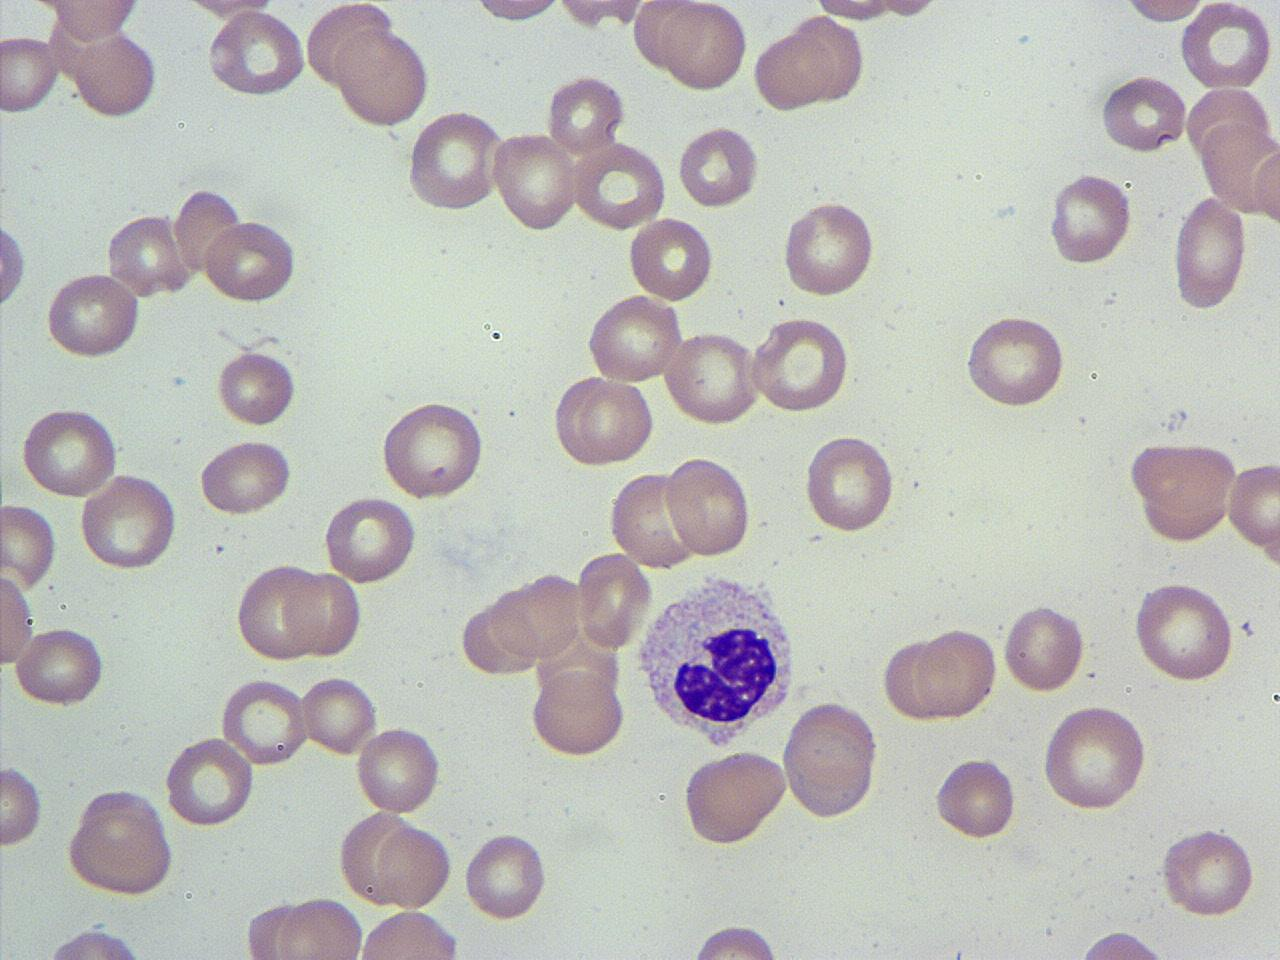RBC: (780, 696, 882, 822), (1039, 700, 1151, 813), (1124, 439, 1242, 543), (379, 396, 488, 502), (681, 744, 792, 848), (62, 801, 178, 898), (1131, 578, 1237, 684), (331, 22, 434, 130), (959, 314, 1070, 409), (78, 471, 180, 572), (750, 312, 851, 414), (780, 197, 880, 301), (406, 107, 502, 214), (551, 372, 657, 468), (660, 452, 754, 560), (17, 404, 121, 501), (801, 432, 897, 535), (205, 6, 309, 99), (662, 328, 760, 427), (1170, 193, 1250, 313), (1157, 825, 1259, 919), (584, 293, 686, 386), (490, 128, 579, 234), (606, 469, 696, 570), (1176, 1, 1276, 92), (44, 269, 143, 360), (526, 671, 628, 758), (1046, 168, 1136, 267), (490, 568, 584, 662), (218, 674, 310, 768), (570, 140, 667, 231), (202, 217, 300, 306), (234, 562, 322, 662), (322, 493, 417, 584), (352, 724, 444, 817), (162, 735, 256, 827), (462, 829, 552, 924), (1000, 598, 1087, 696), (912, 624, 999, 722), (12, 622, 108, 710), (574, 548, 654, 652), (659, 3, 751, 93), (195, 438, 296, 517), (626, 215, 716, 304), (73, 30, 159, 120), (1097, 72, 1189, 154), (674, 122, 762, 209), (336, 808, 414, 904), (932, 754, 1018, 842), (104, 212, 188, 301), (286, 567, 364, 659), (790, 11, 866, 106), (215, 346, 299, 430), (376, 820, 453, 912), (171, 184, 244, 278), (544, 72, 626, 155), (752, 30, 830, 114), (300, 673, 378, 757), (275, 892, 366, 960), (880, 634, 948, 722), (356, 906, 464, 959), (1, 500, 60, 596), (0, 32, 63, 116), (1224, 458, 1280, 552), (632, 0, 700, 73), (38, 0, 146, 43), (29, 924, 159, 958), (680, 922, 795, 958), (0, 761, 46, 850), (0, 562, 35, 673), (1064, 926, 1182, 958), (0, 213, 29, 313), (467, 0, 567, 27), (1119, 0, 1207, 28), (1252, 143, 1280, 231), (808, 0, 900, 24)
WBC: (632, 568, 802, 751)
